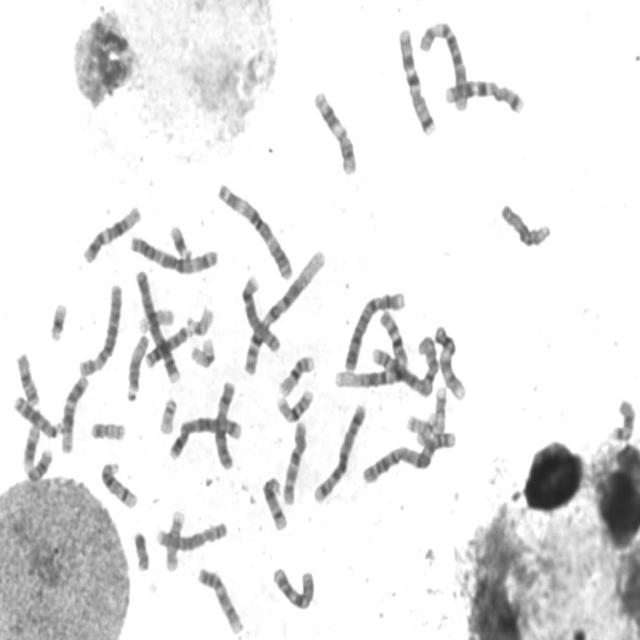A1: (241, 244, 328, 378), (333, 298, 409, 391)
A2: (359, 426, 458, 486), (369, 332, 442, 397)
A3: (213, 177, 296, 281), (126, 230, 220, 276)
B4: (132, 264, 183, 384), (341, 286, 408, 376)
B5: (310, 397, 368, 506), (165, 411, 243, 462)
C10: (279, 417, 309, 508), (269, 562, 317, 612)
C11: (310, 86, 359, 177), (19, 419, 54, 484)
C12: (79, 200, 143, 266), (57, 370, 91, 454)
C6: (416, 17, 471, 112), (76, 278, 124, 378)
C7: (395, 22, 438, 138), (442, 73, 526, 116)
C8: (238, 270, 283, 354), (152, 516, 230, 552)
C9: (194, 562, 245, 636), (431, 320, 468, 402)
D13: (10, 390, 64, 439), (142, 320, 192, 370)
D14: (98, 457, 140, 511), (259, 472, 289, 532)
D15: (497, 198, 553, 250), (122, 329, 151, 404)
E16: (275, 351, 317, 397), (273, 384, 315, 424)
E17: (162, 506, 187, 574), (425, 381, 449, 440)
E18: (12, 347, 41, 407), (405, 416, 436, 442)
F19: (135, 303, 176, 334), (187, 333, 217, 370)
F20: (87, 416, 127, 443), (418, 412, 441, 443)
G21: (166, 220, 194, 260), (46, 297, 69, 343)
G22: (183, 302, 216, 338), (156, 392, 178, 437)
X: (212, 376, 238, 472)
Y: (130, 527, 152, 573)
